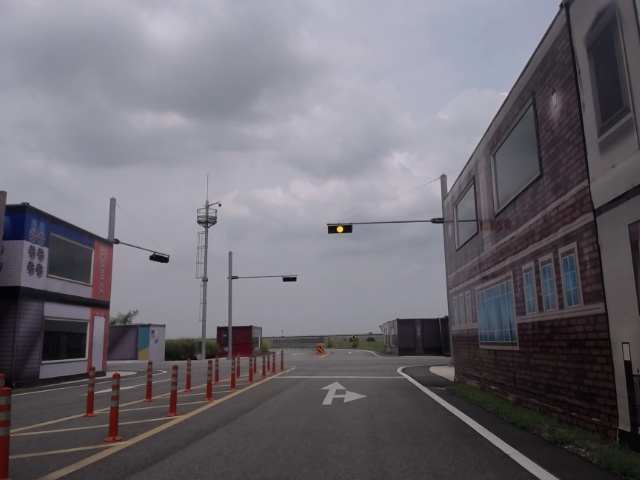orange_3: (327, 224, 352, 234)
